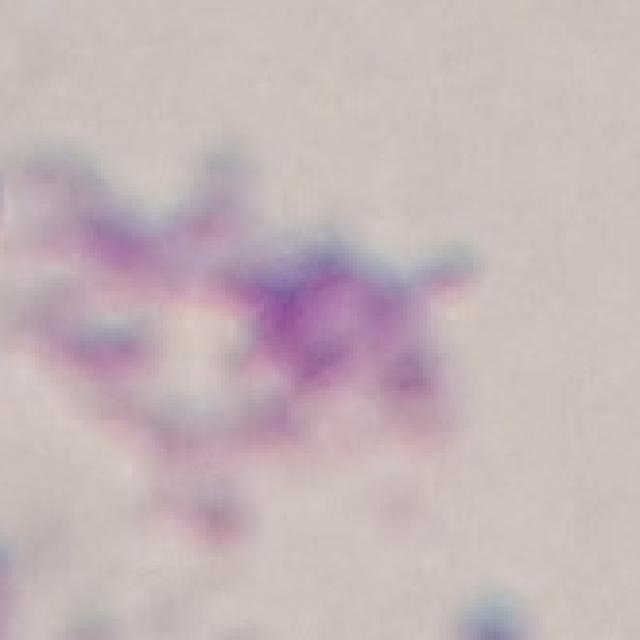non-sperm: (101, 202, 498, 445)
